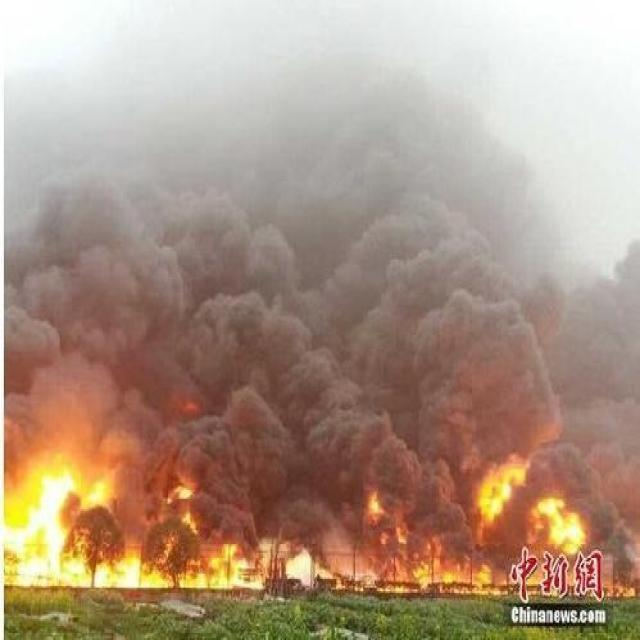Fire: (284, 464, 638, 598), (1, 454, 268, 592)
Smoke: (2, 0, 640, 454)
